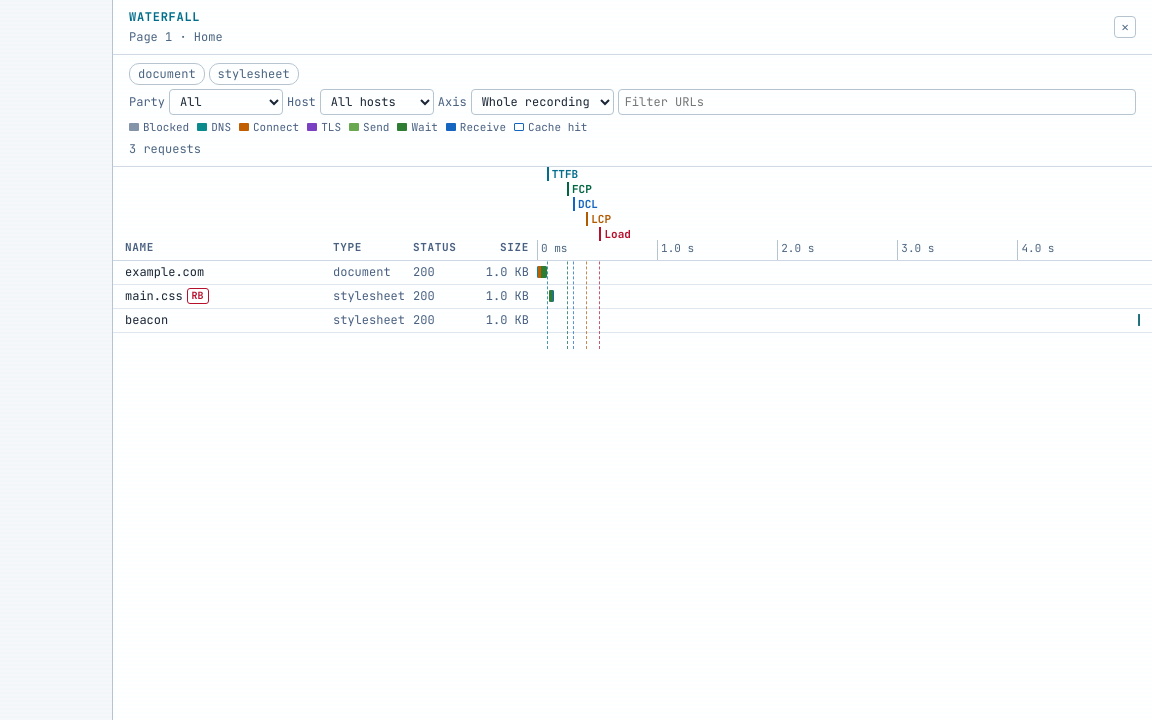
Test: WaterfallPanel › zooms the time axis on the page load when late requests stretch the recording
Expected: the picture named "Time ruler" shows "4.0 s", [1022,241,1054,255]
Select "Page load" in the dropdown labelled "Axis" at (542,102), box [471,89,614,115]
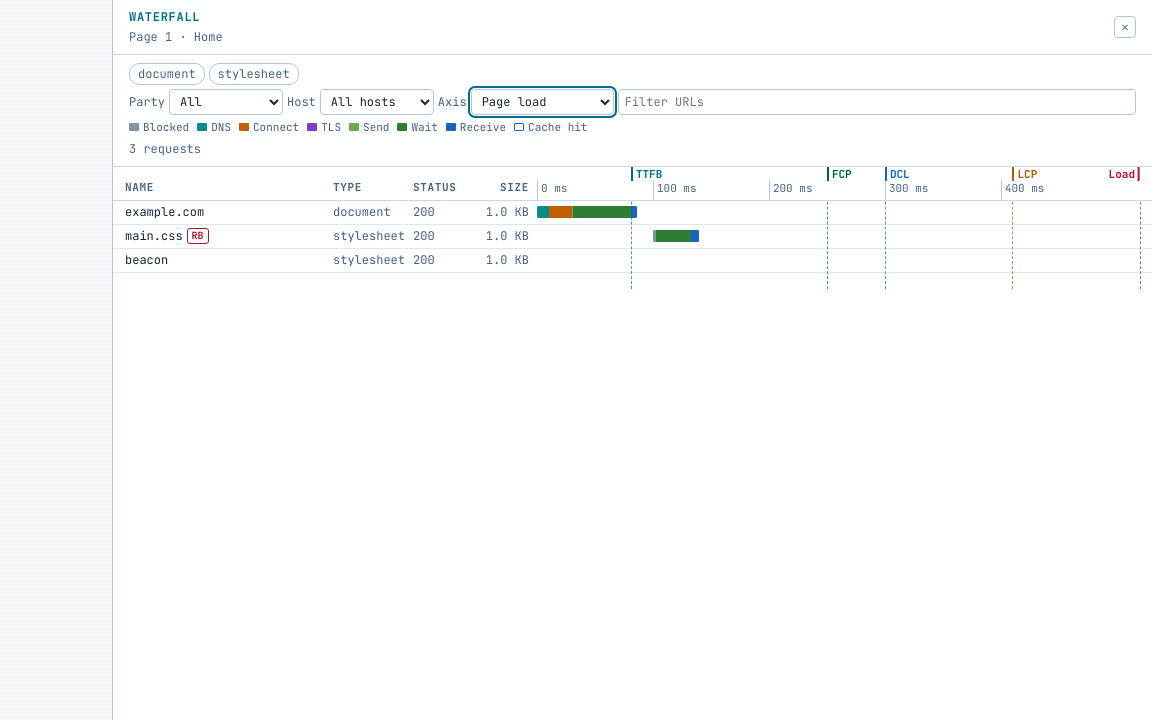
Result: the picture named "Time ruler" shows "400 ms" at [1005,181,1044,195]
Result: the picture named "Time ruler" no longer shows "4.0 s" at [537,166,1140,200]
